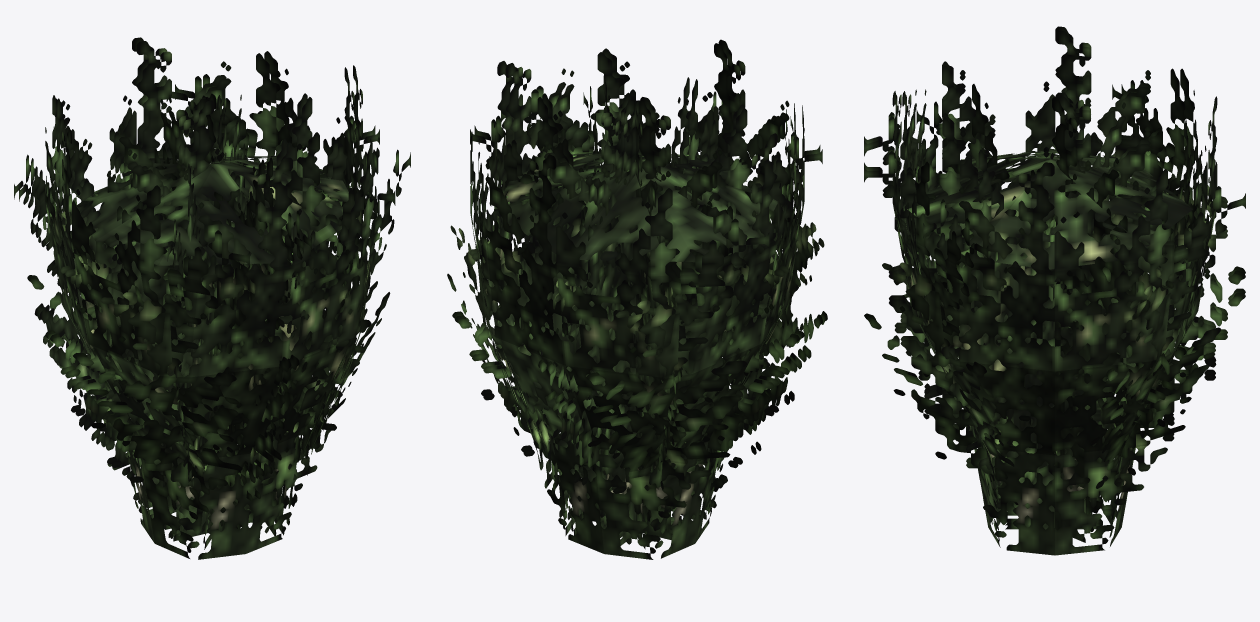
File: fort_rampart_bush.glb
3 views of the same model, side by side, from view 1: azimuth 30°, elevation 25°; view 2: azimuth 150°, elevation 25°; view 3: azimuth 270°, elevation 25° (orthographic).
Parts seen in each view (by area): view 1: bush8; view 2: bush8; view 3: bush8.
Boxes of the visible parts, x1=… form: bush8: x1=14, y1=37, x2=410, y2=559; bush8: x1=447, y1=39, x2=827, y2=559; bush8: x1=864, y1=26, x2=1245, y2=555.
Size of the model in its own units: 0.8 by 1 by 0.8.
1 material, 1 textured.
